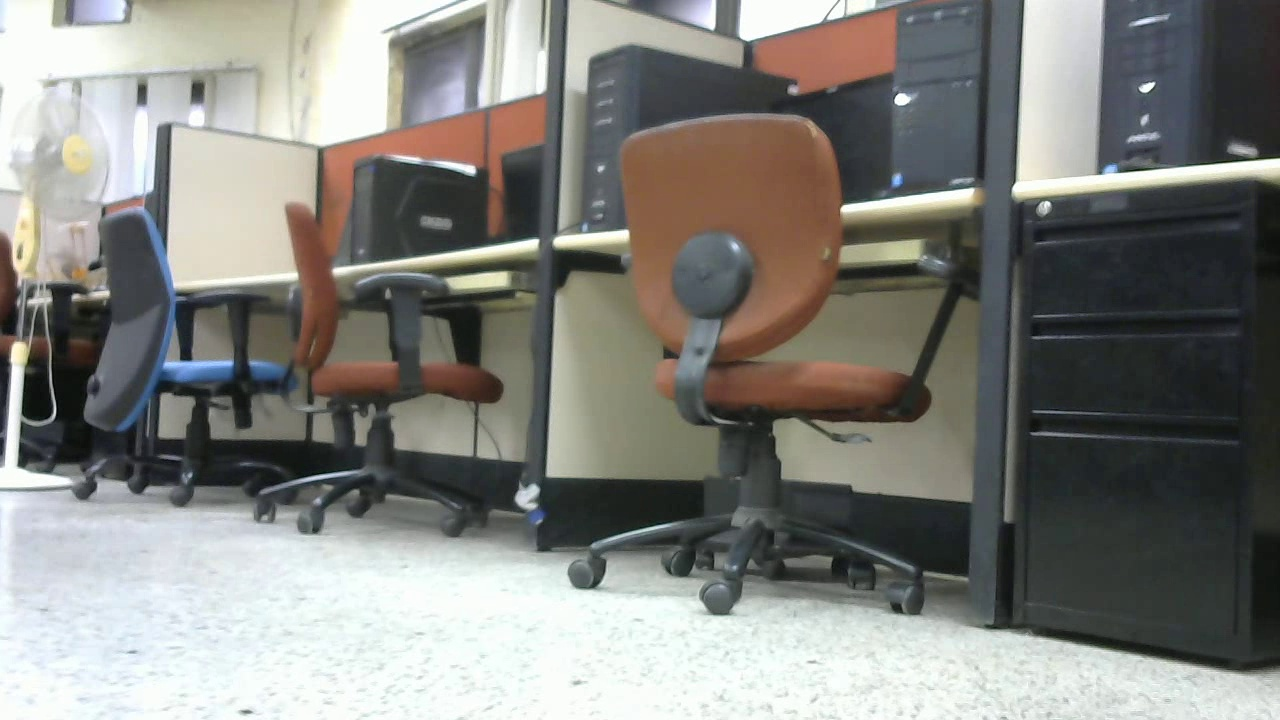chair: (563, 115, 984, 626), (249, 199, 505, 536), (72, 205, 296, 519), (1, 231, 105, 475)
